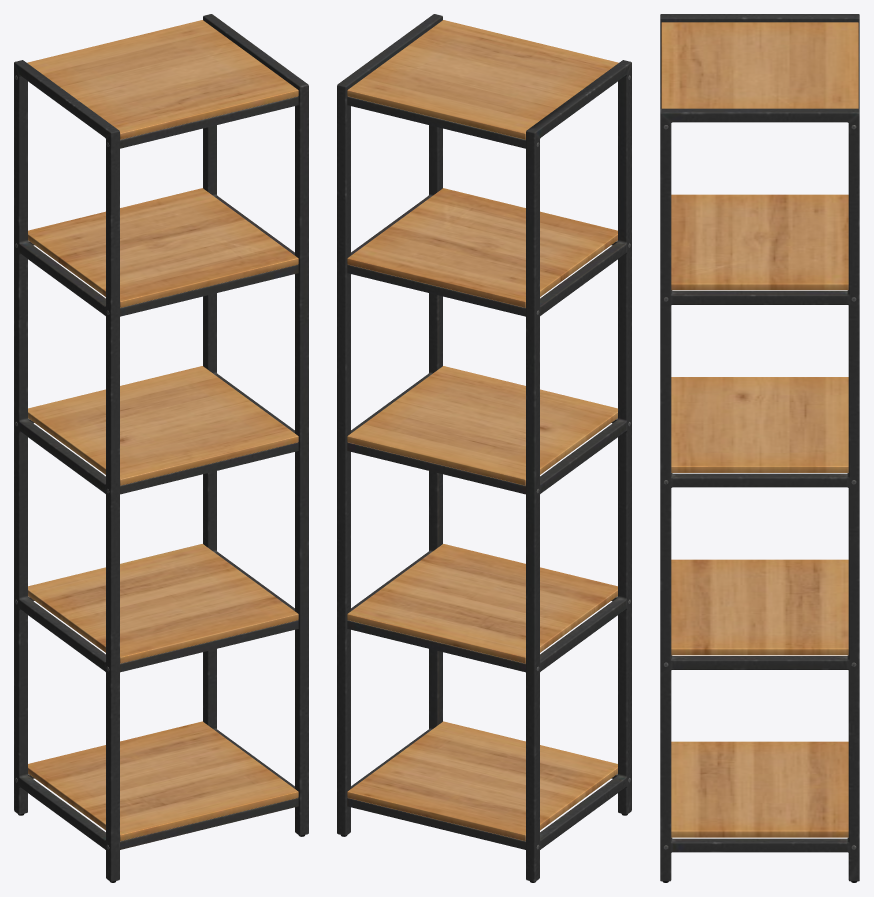
Rendered from steel_frame_shelves_02.glb.
3 renders of one model, left to right at view 1: azimuth 30°, elevation 25°; view 2: azimuth 150°, elevation 25°; view 3: azimuth 270°, elevation 25°, orthographic. The views are drawn at different scales.
Parts seen in each view (by area): view 1: steel_frame_shelves_02; view 2: steel_frame_shelves_02; view 3: steel_frame_shelves_02.
Part boxes in pixels (x1,y1,x2,y2): steel_frame_shelves_02: (14, 14, 308, 882); steel_frame_shelves_02: (337, 14, 631, 882); steel_frame_shelves_02: (660, 14, 859, 882).
Size of the model in its own units: 0.5933 by 2.14 by 0.5024.
Materials: 1 (1 with a texture image).
